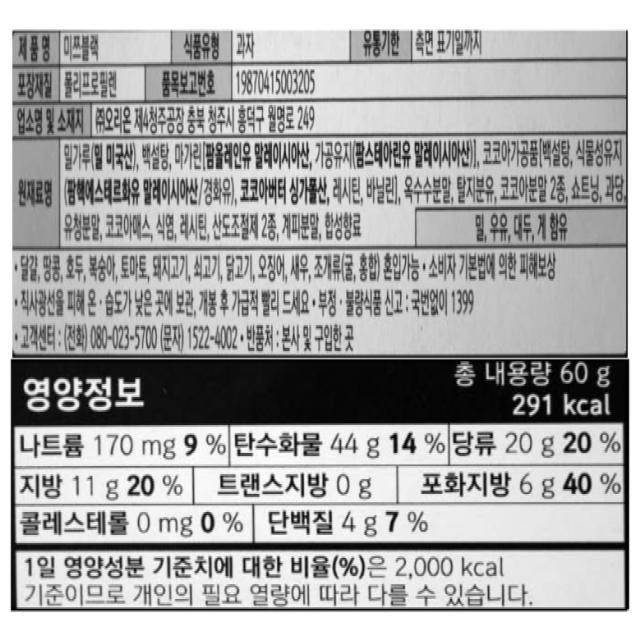Nutrition Label: (7, 350, 633, 620)
